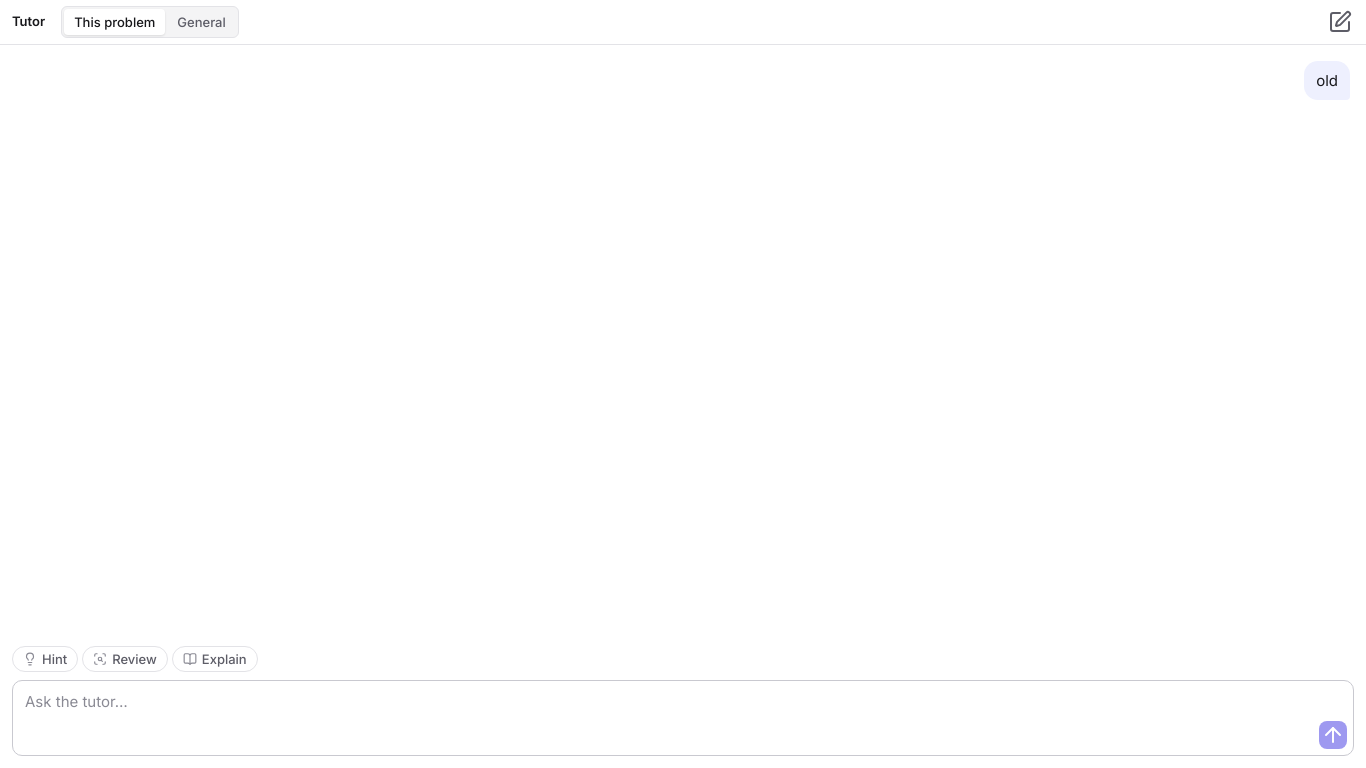
Scenario: ChatPane controls and states › New chat resets the thread after confirmation
The width and height of the screenshot is (1366, 768).
expect the text "old" is shown: met, box [1316,69,1338,92]
Click the button named "New chat". click: (1340, 22)
box: [1326,8,1354,36]
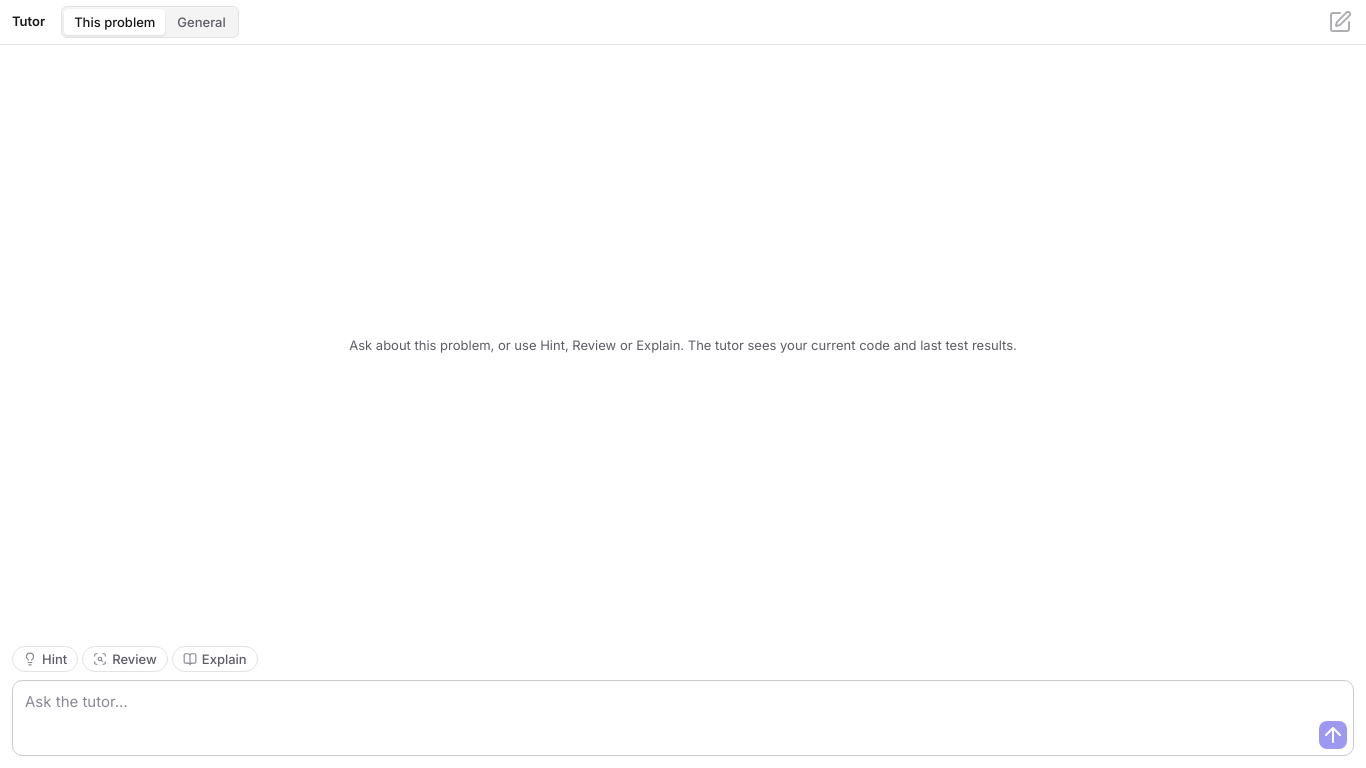
expect the text "old" is gone: met
